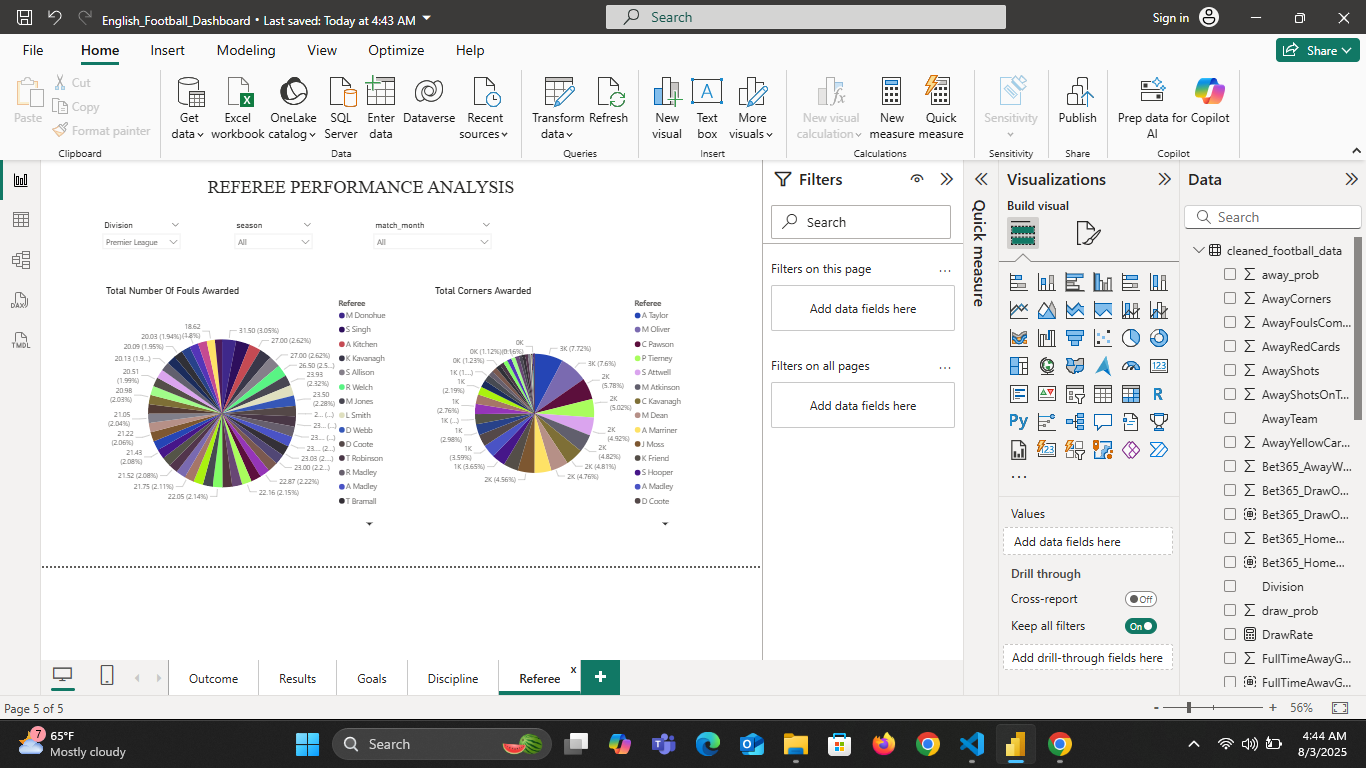

This screenshot's page, from the dashboard's own definition file:
{"tool":"powerbi","page":{"name":"Referee","canvas":[1280,720],"ordinal":4},"visuals":[{"type":"textbox","box":[291.2,24.9,578.8,78.1],"z":0},{"type":"pieChart","title":"Total Number Of Fouls Awarded","fields":{"Category":["cleaned_football_data.Referee"],"Y":["Avg(cleaned_football_data.TotalFouls)"]},"box":[110.1,221.9,530.8,436.7],"z":1},{"type":"slicer","fields":{"Values":["cleaned_football_data.Division"]},"box":[99.4,103,158,97.6],"z":2},{"type":"slicer","fields":{"Values":["cleaned_football_data.season"]},"box":[333.8,103,158,97.6],"z":3},{"type":"slicer","fields":{"Values":["cleaned_football_data.match_month"]},"box":[580.5,103,229,97.6],"z":4},{"type":"pieChart","title":"Total Corners Awarded","fields":{"Category":["cleaned_football_data.Referee"],"Y":["Sum(cleaned_football_data.TotalCorners)"]},"box":[694.1,221.9,472.2,436.7],"z":5}]}

Visuals, with their boxes on the page's 1280x720 design canvas (x1, y1, x2, y2). These are canvas units, not pixel positions in the 1366x768 screenshot, which may show the page scaled, cropped or inside an application window:
textbox: 291,25,870,103
"Total Number Of Fouls Awarded" pieChart: 110,222,641,659
slicer - cleaned_football_data.Division: 99,103,257,201
slicer - cleaned_football_data.season: 334,103,492,201
slicer - cleaned_football_data.match_month: 580,103,810,201
"Total Corners Awarded" pieChart: 694,222,1166,659
